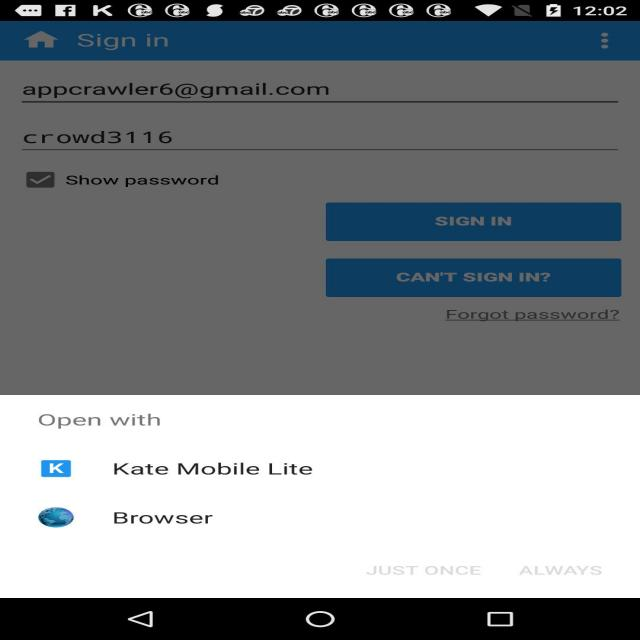button: (308, 192, 630, 242), (307, 254, 627, 293), (93, 452, 362, 497), (474, 534, 622, 592), (444, 298, 629, 331), (330, 540, 468, 584), (108, 501, 249, 542)
icon: (582, 30, 628, 53), (18, 166, 62, 189)
image: (37, 506, 95, 534), (28, 454, 81, 483), (22, 29, 68, 55)
text: (31, 78, 384, 101), (112, 456, 355, 488), (438, 300, 620, 327), (40, 408, 196, 437), (18, 126, 190, 150), (66, 170, 228, 194), (68, 28, 184, 56), (379, 268, 569, 285), (360, 552, 474, 579), (514, 556, 612, 586), (112, 504, 223, 530), (427, 210, 528, 238)
